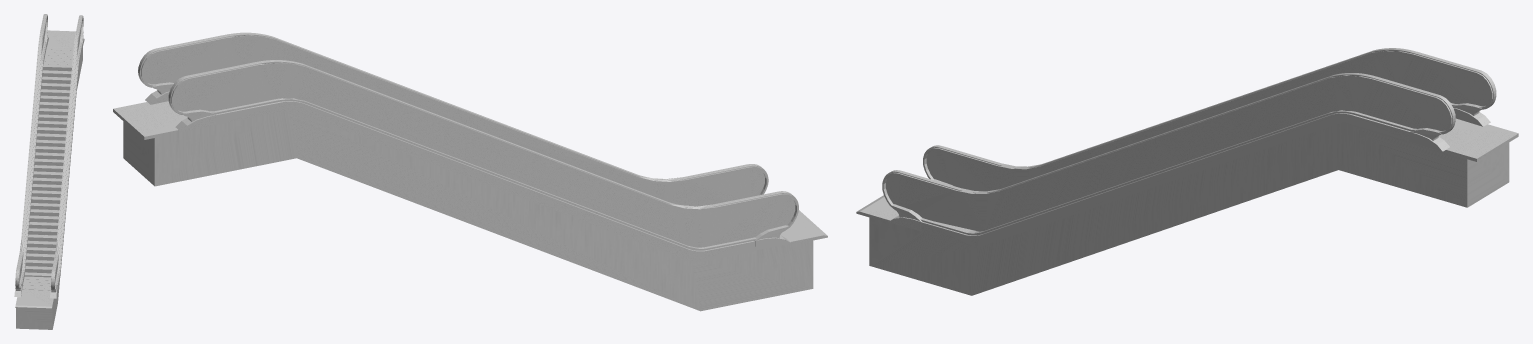
Rendered from escalator.dae.
3 views of the same model, side by side, from view 1: azimuth 30°, elevation 25°; view 2: azimuth 150°, elevation 25°; view 3: azimuth 270°, elevation 25° (orthographic). The views are drawn at different scales.
Visible parts, largest first — view 1: node; view 2: node; view 3: node.
Part boxes in pixels (x1,y1,x2,y2): node: (14, 14, 84, 329); node: (113, 32, 827, 311); node: (856, 48, 1518, 295).
Size of the model in its own units: 257 by 194 by 347.
1 material, 1 textured.
